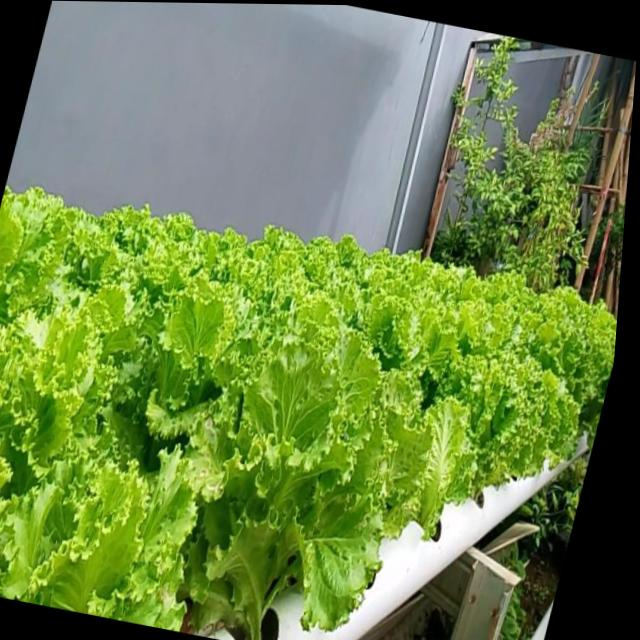Mature: (0, 167, 613, 640), (199, 333, 404, 630), (436, 302, 601, 508)
